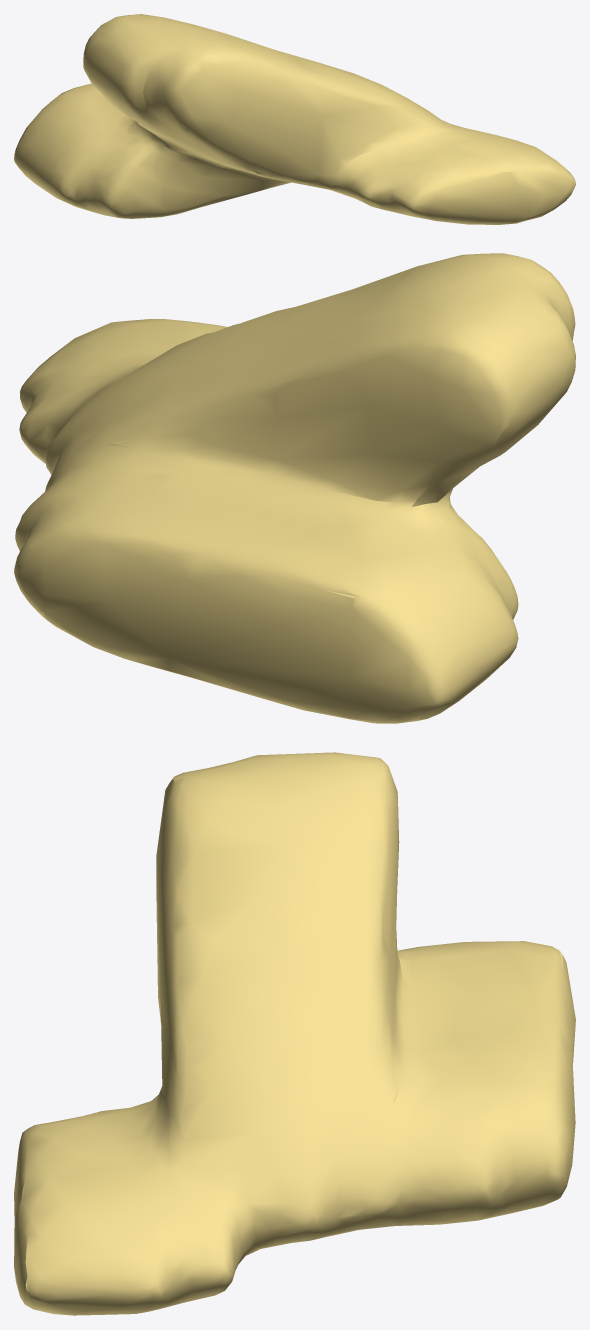
Rendered from fma73083_fj7561m.glb.
3 views of the same model, one above another, from view 1: azimuth 30°, elevation 25°; view 2: azimuth 150°, elevation 25°; view 3: azimuth 270°, elevation 25° (orthographic). The views are drawn at different scales.
Visible parts, largest first — view 1: FMA73083_FJ7561M; view 2: FMA73083_FJ7561M; view 3: FMA73083_FJ7561M.
Part boxes in pixels (x1,y1,x2,y2): FMA73083_FJ7561M: (14, 14, 575, 224); FMA73083_FJ7561M: (14, 253, 575, 723); FMA73083_FJ7561M: (14, 752, 575, 1315).
Bounding box in the file's own units: 0.00602 × 0.00309 × 0.00471.
